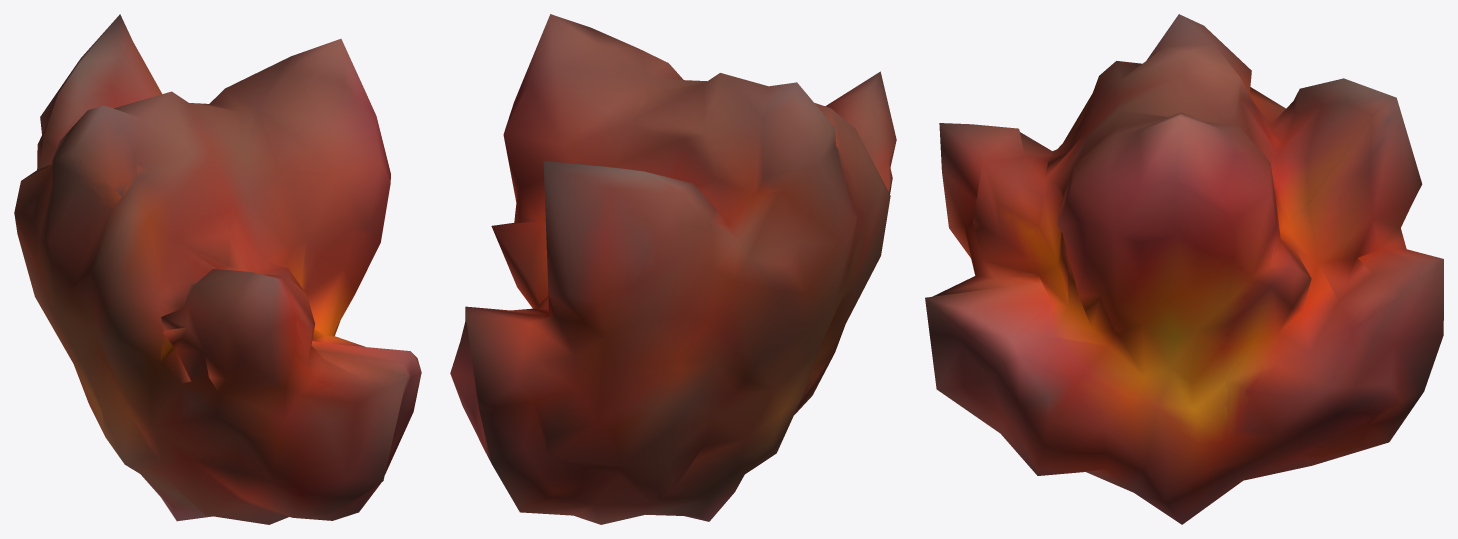
File: gem_cinder_wake.glb
3 views of the same model, side by side, from view 1: azimuth 30°, elevation 25°; view 2: azimuth 150°, elevation 25°; view 3: azimuth 270°, elevation 25° (orthographic). The views are drawn at different scales.
Visible parts, largest first — view 1: model; view 2: model; view 3: model.
Boxes of the visible parts, x1,y1,x2,y2 form: model: [14, 14, 421, 524]; model: [450, 14, 896, 524]; model: [925, 14, 1443, 524].
Size of the model in its own units: 0.2662 by 0.3644 by 0.3999.
Materials: 1 (1 with a texture image).
